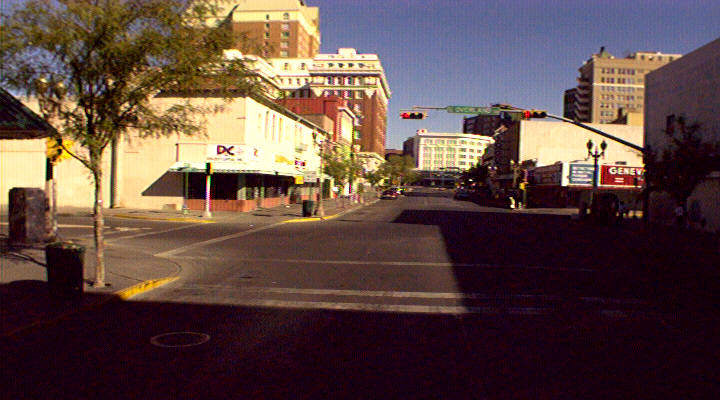Ramp: (77, 236, 186, 299), (201, 209, 295, 229)
